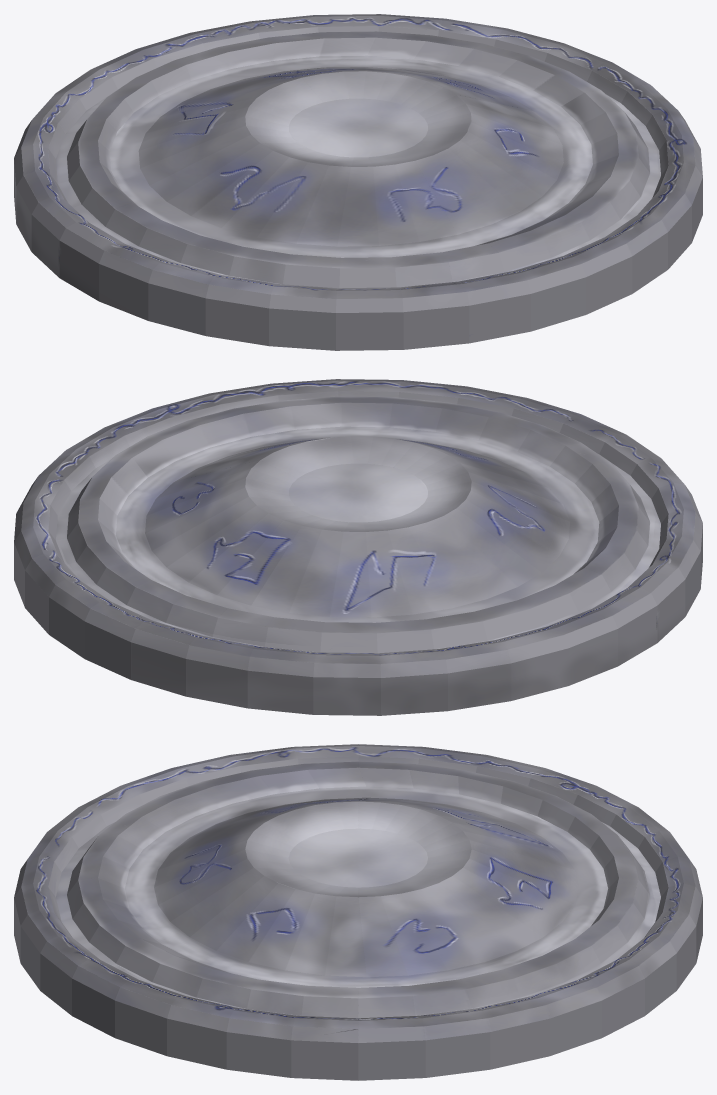
The model's file is TransmutationAmulet.fbx.
3 renders of one model, top to bottom at view 1: azimuth 30°, elevation 25°; view 2: azimuth 150°, elevation 25°; view 3: azimuth 270°, elevation 25°, orthographic.
Visible parts, largest first — view 1: TransmutationAmulet.001; view 2: TransmutationAmulet.001; view 3: TransmutationAmulet.001.
Part boxes in pixels (bbox=[...]): TransmutationAmulet.001: bbox=[14, 14, 702, 350]; TransmutationAmulet.001: bbox=[14, 379, 702, 715]; TransmutationAmulet.001: bbox=[14, 744, 702, 1080].
Bounding box in the file's own units: 2 × 0.2751 × 2.
